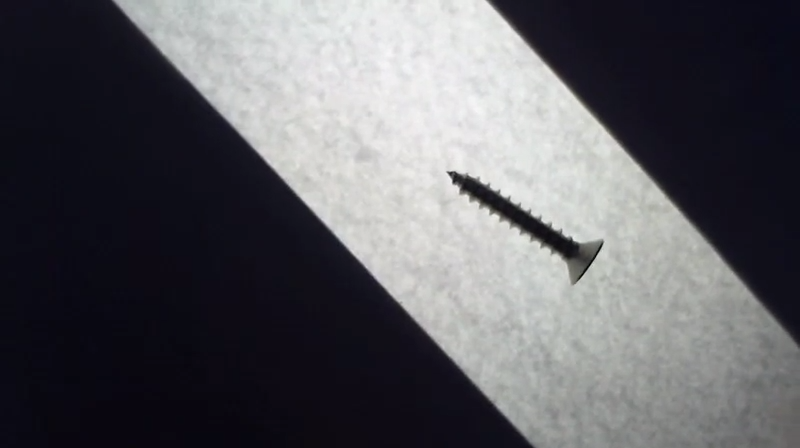S001: (443, 165, 608, 289)
